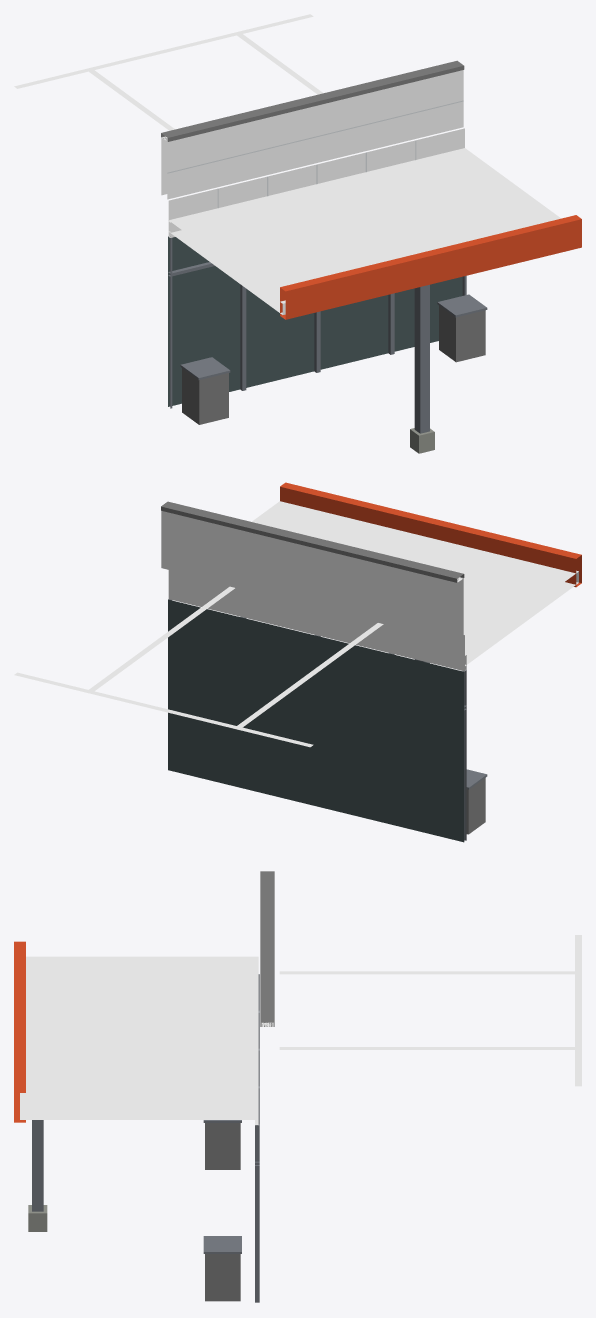
File: base-w1_close.fbx
3 views of the same model, one above another, from view 1: azimuth 30°, elevation 25°; view 2: azimuth 150°, elevation 25°; view 3: azimuth 270°, elevation 25° (orthographic). The views are drawn at different scales.
Visible parts, largest first — view 1: a2008/0/base-w1_close; view 2: a2008/0/base-w1_close; view 3: a2008/0/base-w1_close.
Part boxes in pixels (bbox=[...]): a2008/0/base-w1_close: bbox=[14, 14, 581, 453]; a2008/0/base-w1_close: bbox=[14, 482, 581, 842]; a2008/0/base-w1_close: bbox=[14, 871, 581, 1302].
Size of the model in its own units: 6 by 5.2 by 9.52.
